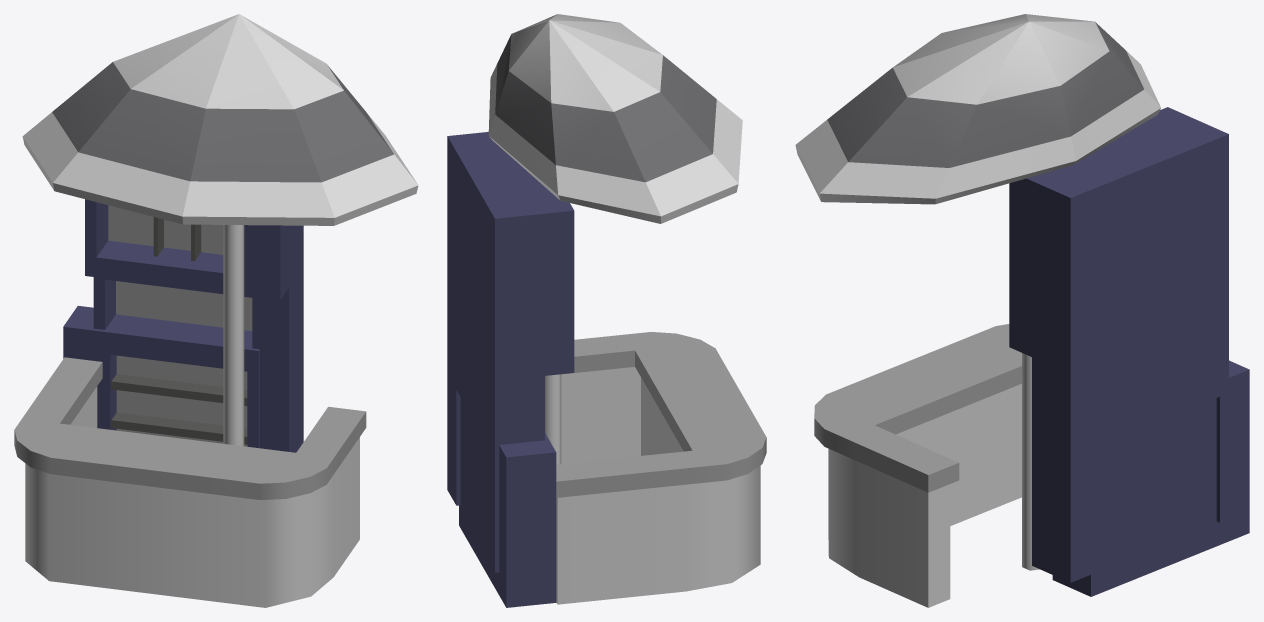
Rendered from Foodstand_09.fbx.
3 views of the same model, side by side, from view 1: azimuth 30°, elevation 25°; view 2: azimuth 150°, elevation 25°; view 3: azimuth 270°, elevation 25° (orthographic). The views are drawn at different scales.
Visible parts, largest first — view 1: Foodstand_09; view 2: Foodstand_09; view 3: Foodstand_09.
Boxes of the visible parts, x1,y1,x2,y2 form: Foodstand_09: (14, 14, 418, 607); Foodstand_09: (447, 14, 766, 607); Foodstand_09: (795, 14, 1249, 607).
Size of the model in its own units: 10.16 by 15.71 by 11.8.
